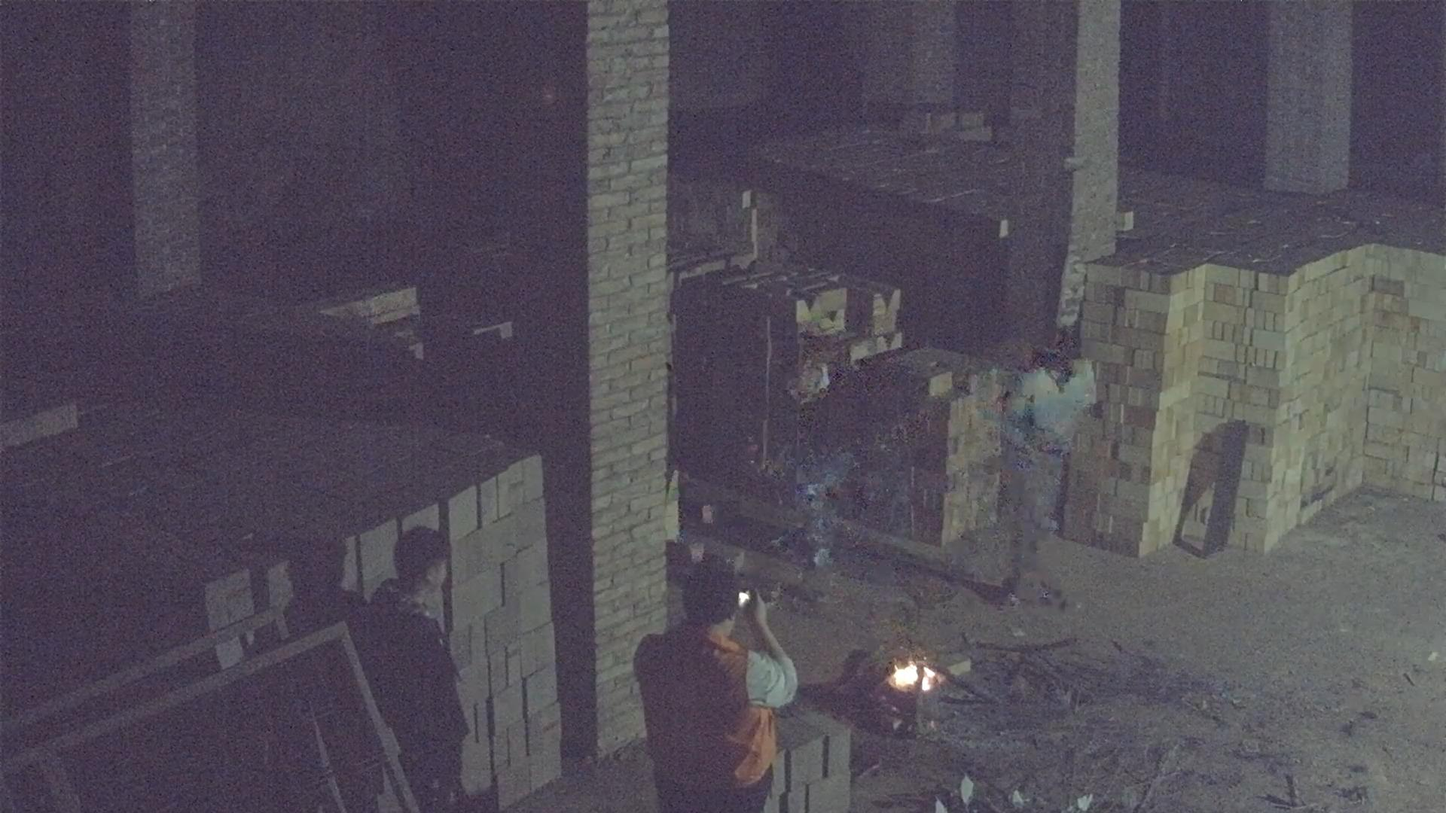fire: (888, 661, 941, 692)
